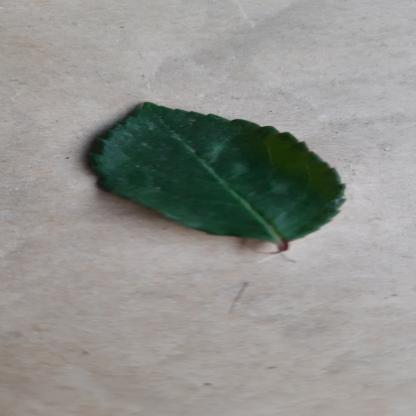normal: (80, 101, 361, 247)
